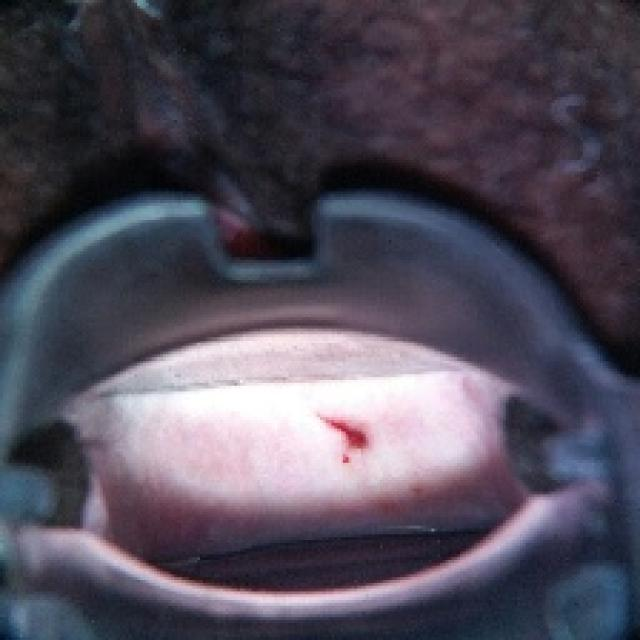type-2: (14, 232, 578, 624)
